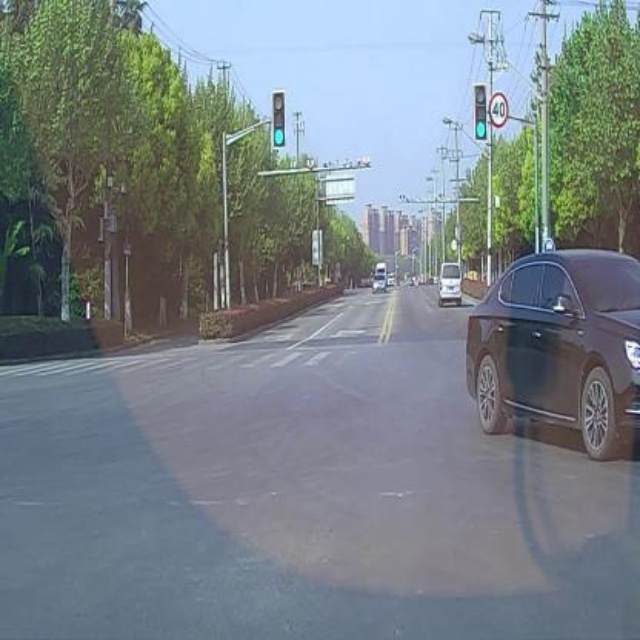Tốc độ tối đa cho phép 10km/h: (490, 93, 508, 127)
Đèn xanh: (472, 85, 488, 138), (272, 91, 285, 147)
